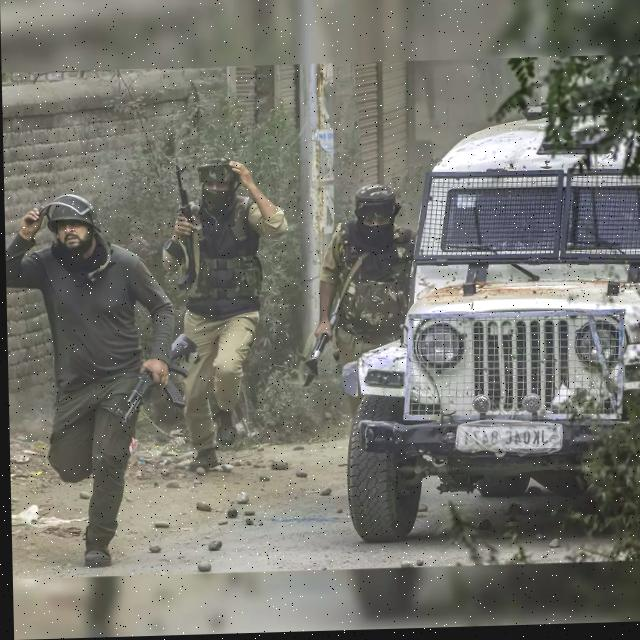plate: (448, 415, 569, 463)
